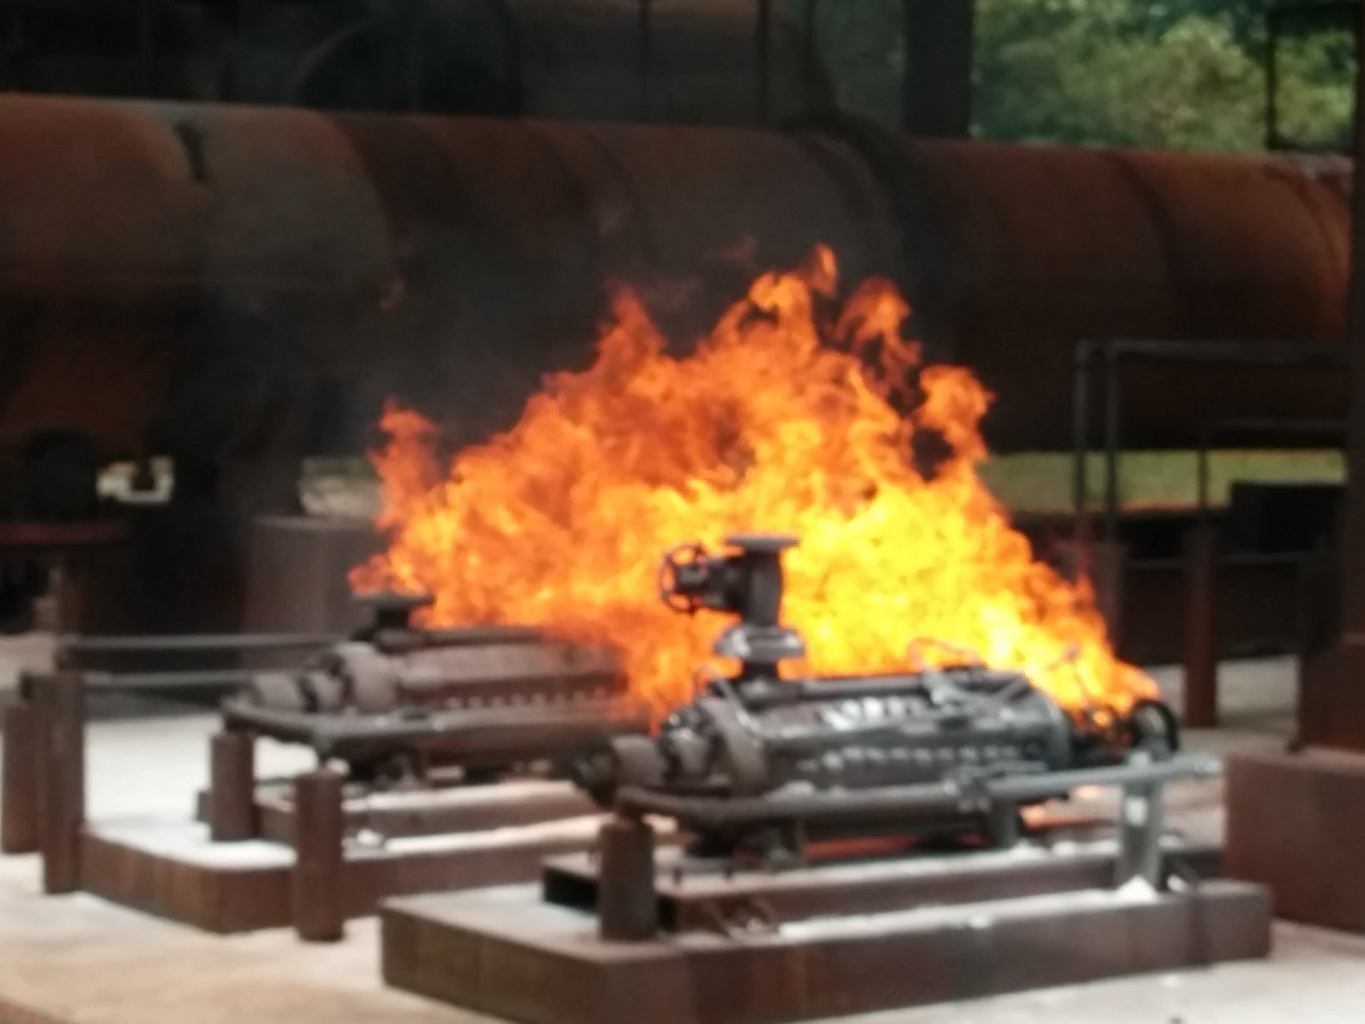fire: (367, 230, 1157, 733)
